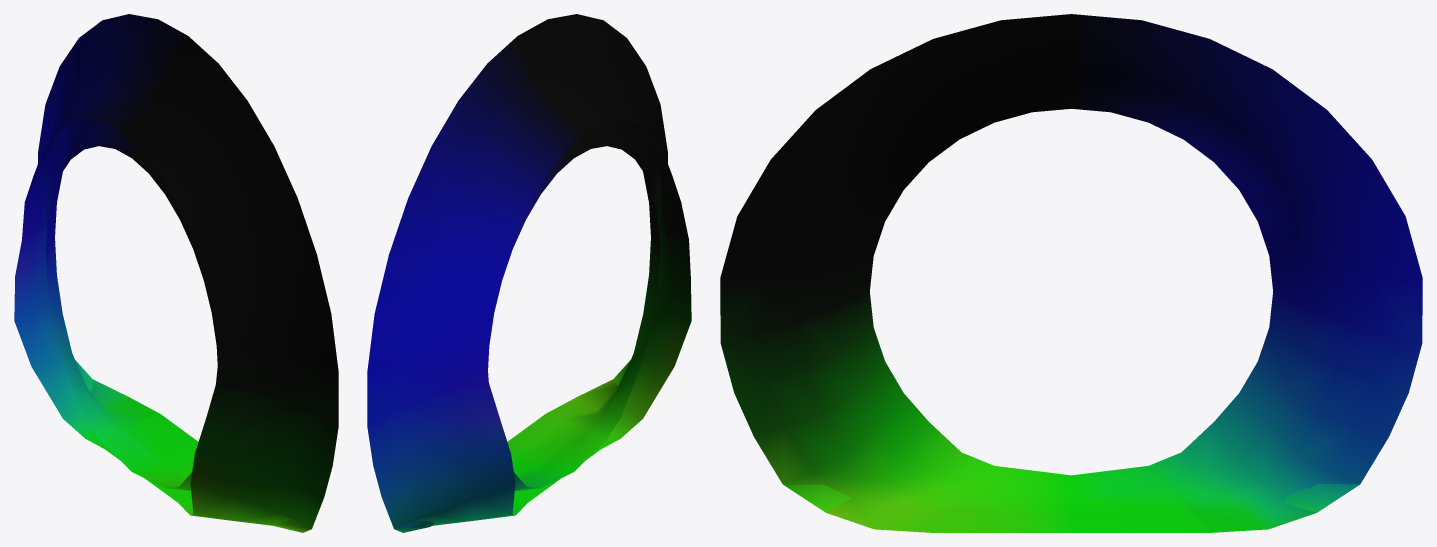
File: uni_wormhole_ring.fbx
3 views of the same model, side by side, from view 1: azimuth 30°, elevation 25°; view 2: azimuth 150°, elevation 25°; view 3: azimuth 270°, elevation 25° (orthographic). The views are drawn at different scales.
Parts seen in each view (by area): view 1: uni_wormhole_ring; view 2: uni_wormhole_ring; view 3: uni_wormhole_ring.
Boxes of the visible parts, box(x1,y1,x2,y2) form: uni_wormhole_ring: box(14, 14, 338, 532); uni_wormhole_ring: box(367, 14, 691, 532); uni_wormhole_ring: box(720, 14, 1422, 532).
Bounding box in the file's own units: 33268 × 7349 × 26191.
